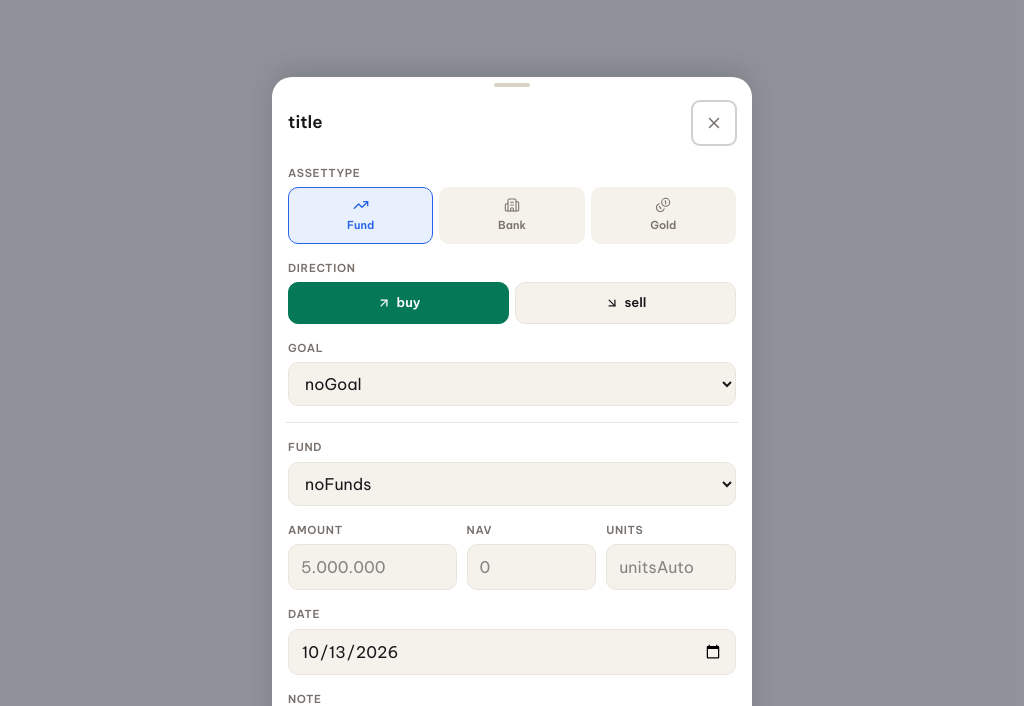
it: AddTransactionSheet — structured bank (bank_code) › renders no separate deposit-name field for a bank deposit — the bank is the name
Click the button "Bank": (512, 216) [439,187,585,244]
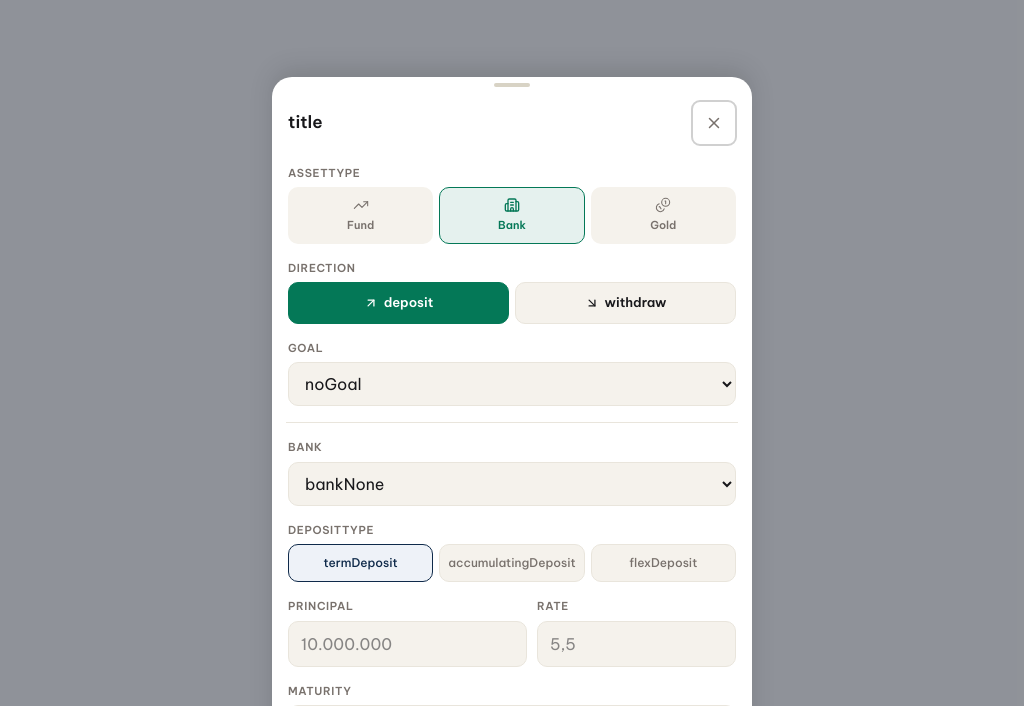
Expected: the dropdown with test id "bank-select" is shown, [288,462,736,506]
